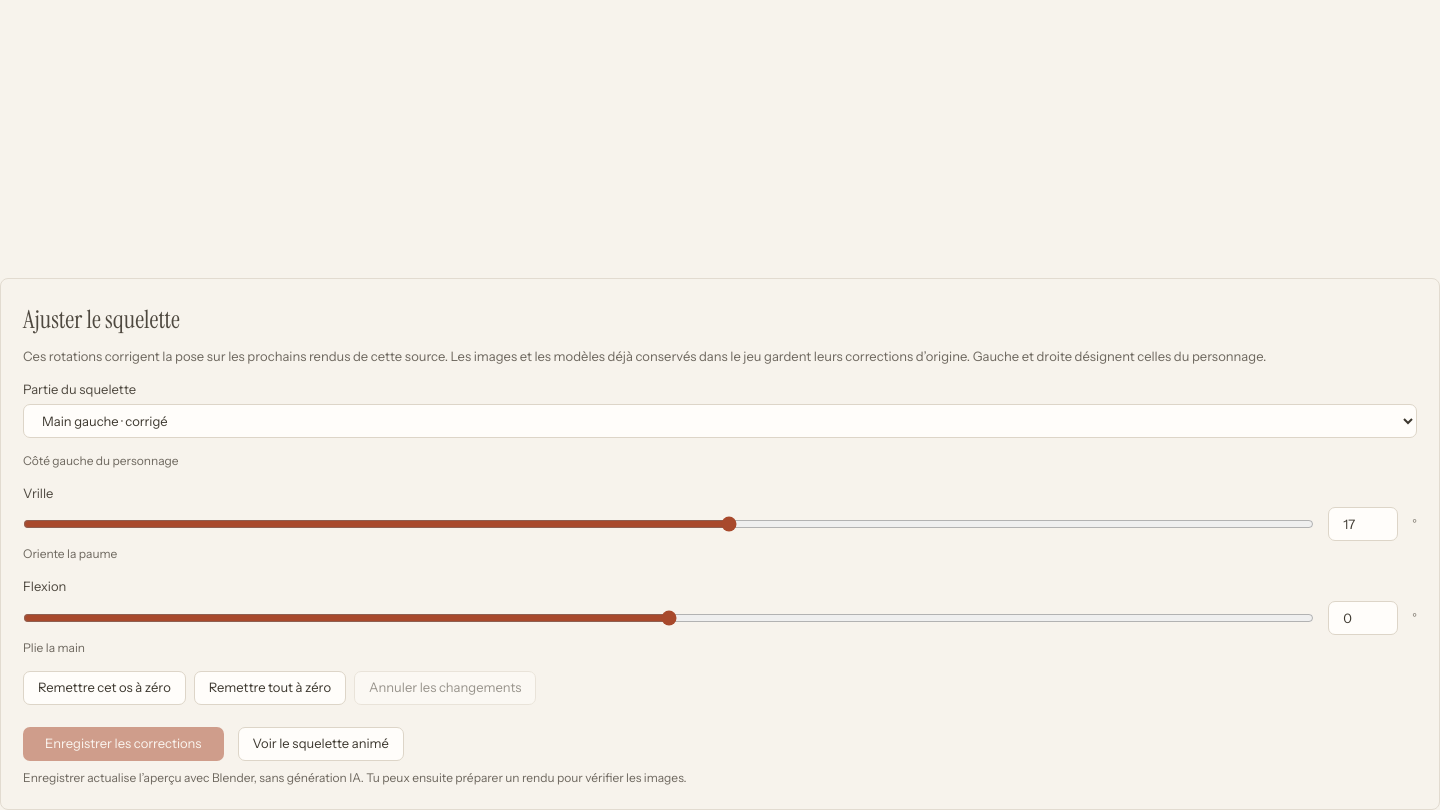
Test: une erreur garde le réglage édité ; la remise à zéro reste réversible avant sauvegarde
(page scrolled)
Replace the text in the number field named "Vrille du squelette" with "61" at (1363, 524), box x1=1328 y1=507 x2=1398 y2=541
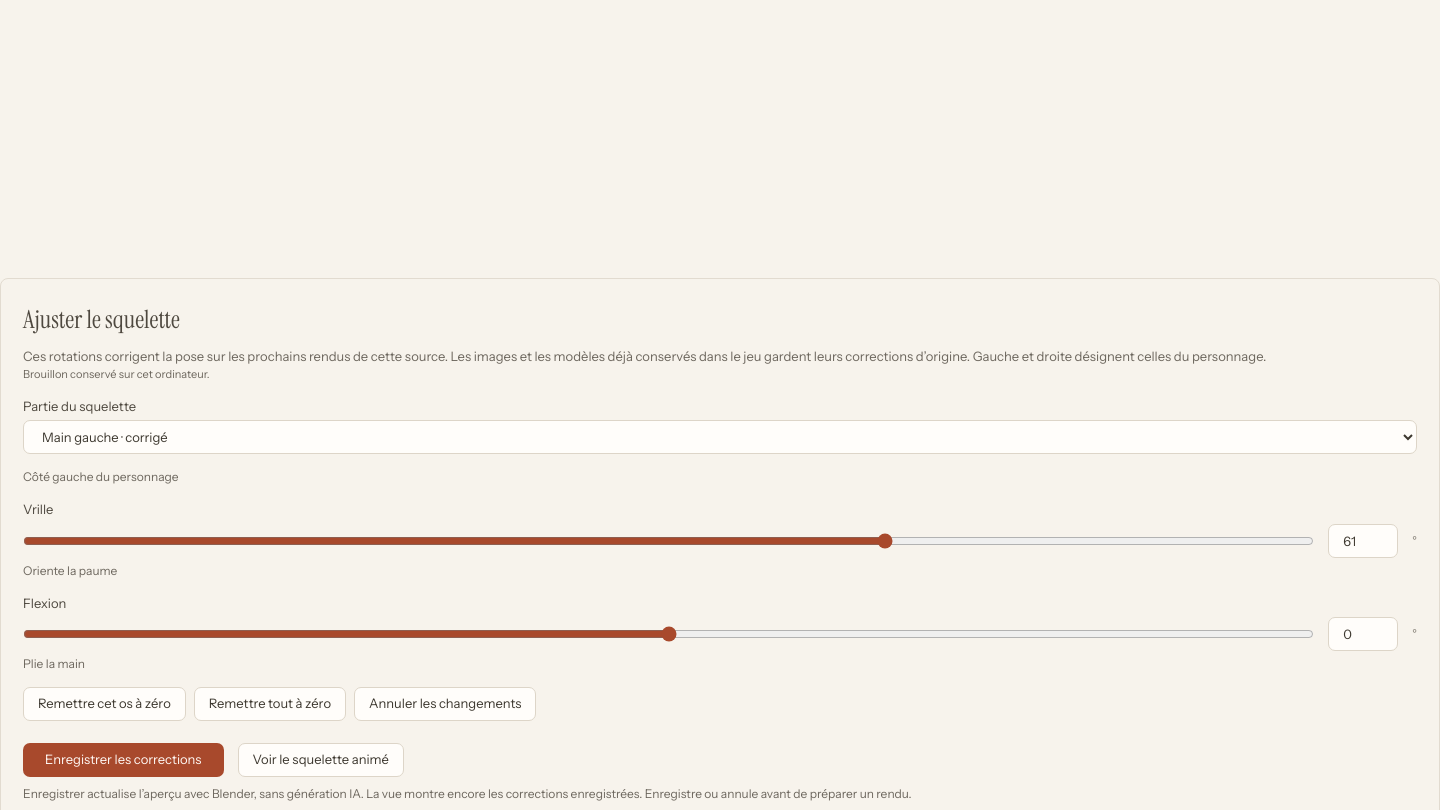
Click the button "Enregistrer les corrections" at (123, 760), box x1=23 y1=743 x2=224 y2=777
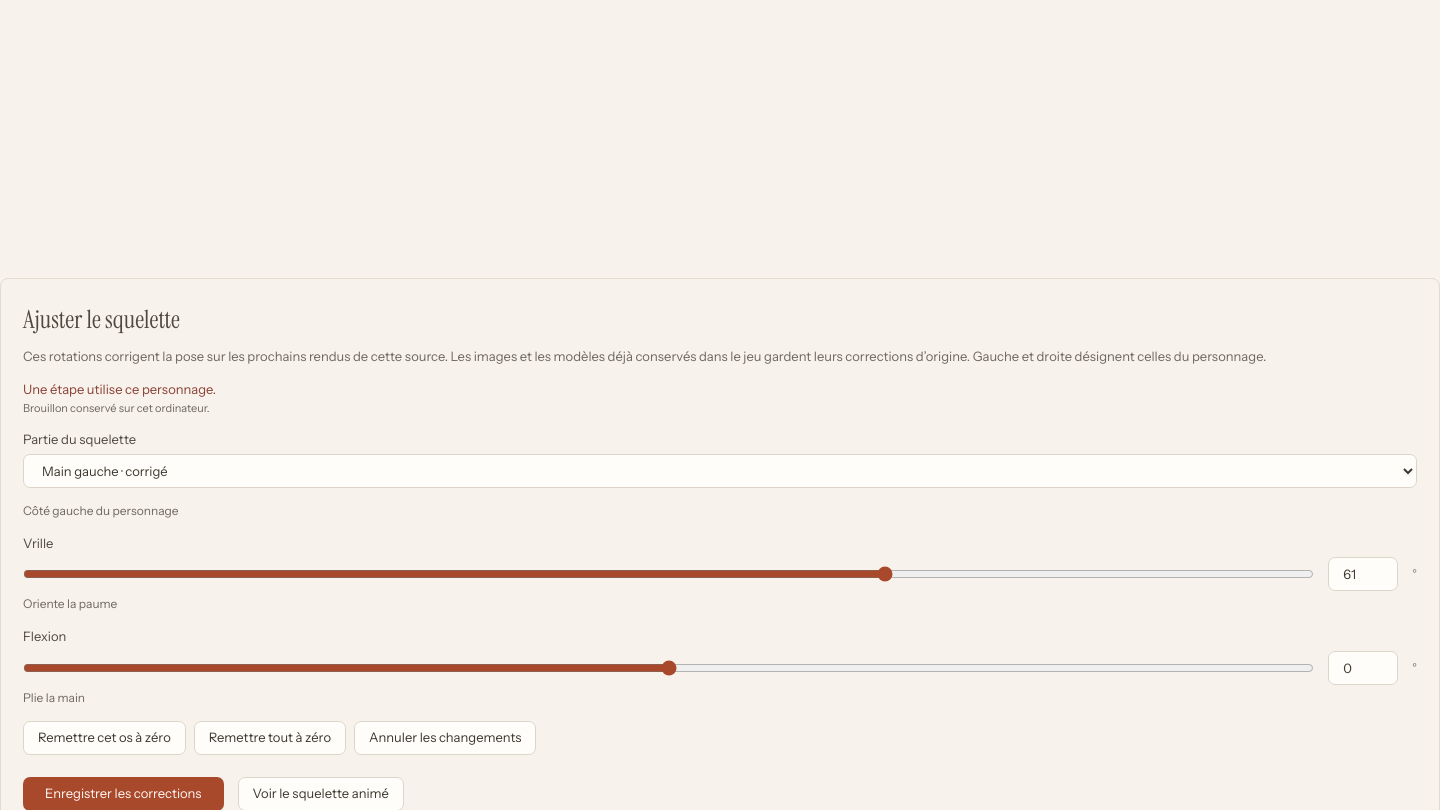
Check: the message "Une étape utilise ce personnage." is shown, box x1=23 y1=381 x2=216 y2=397
Click the button "Remettre tout à zéro" at (270, 738), box x1=194 y1=720 x2=346 y2=754
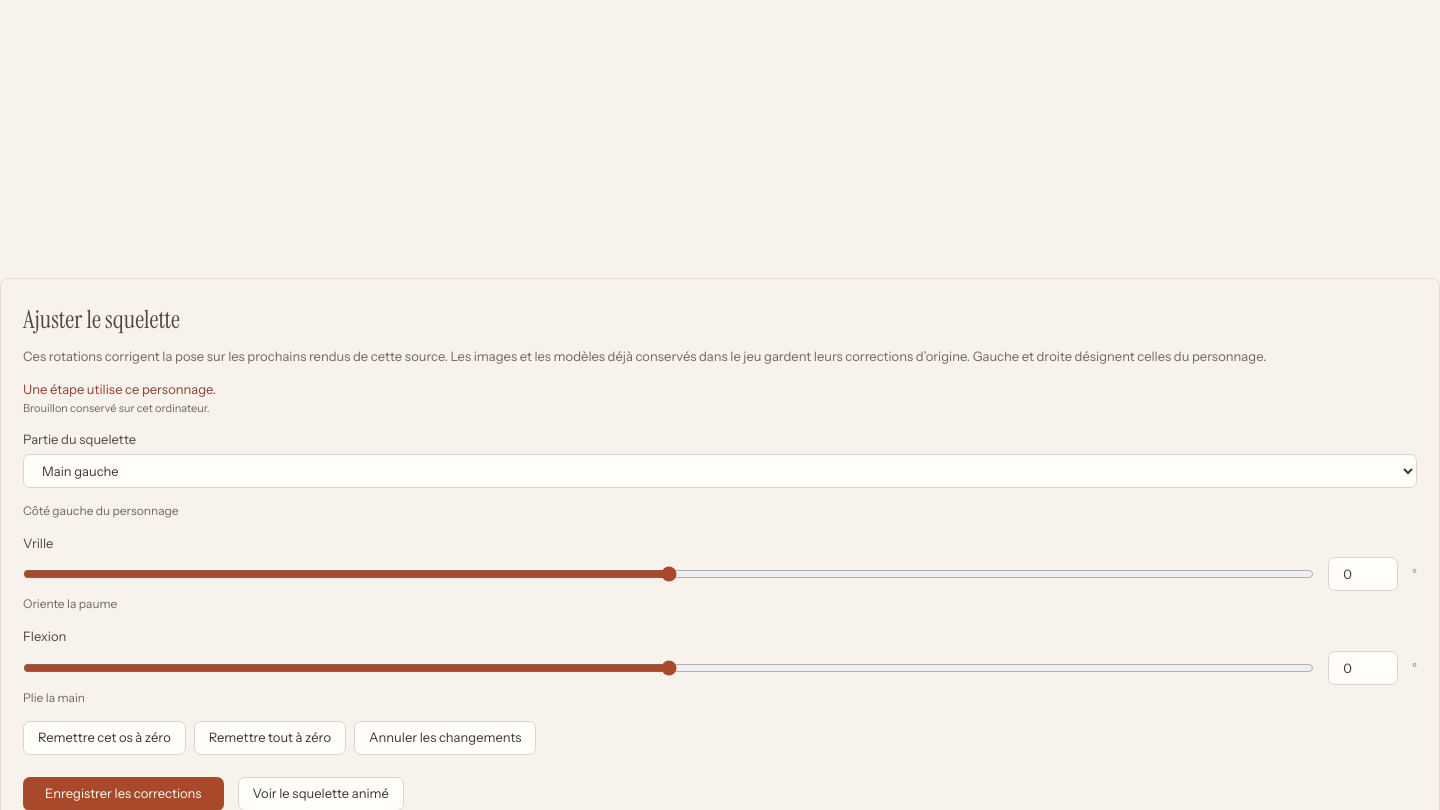
Check: the number field named "Vrille du squelette" holds "0", box x1=1328 y1=557 x2=1398 y2=591
Click the button "Annuler les changements" at (445, 738), box x1=354 y1=720 x2=536 y2=754
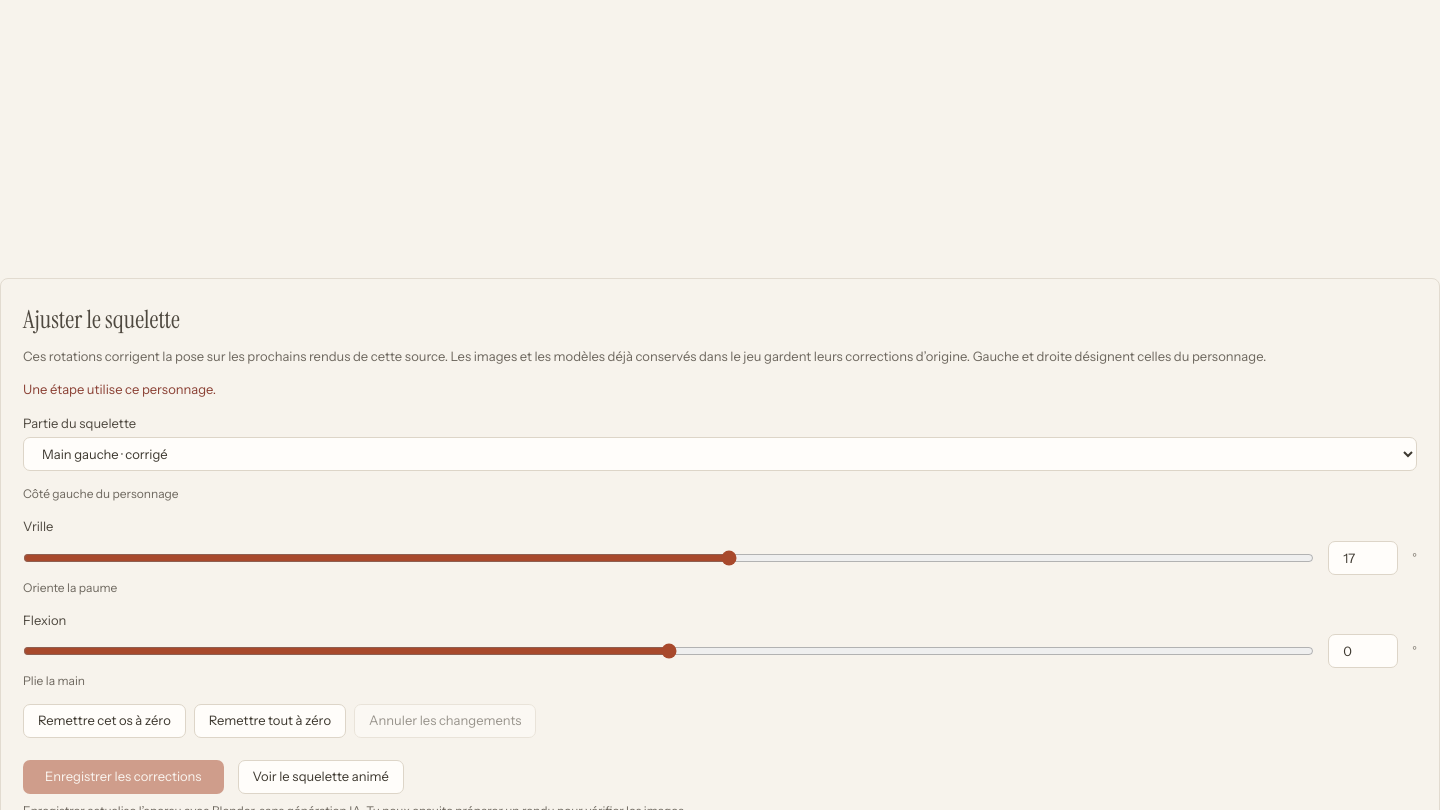
Check: the number field named "Vrille du squelette" holds "17", box x1=1328 y1=540 x2=1398 y2=574
